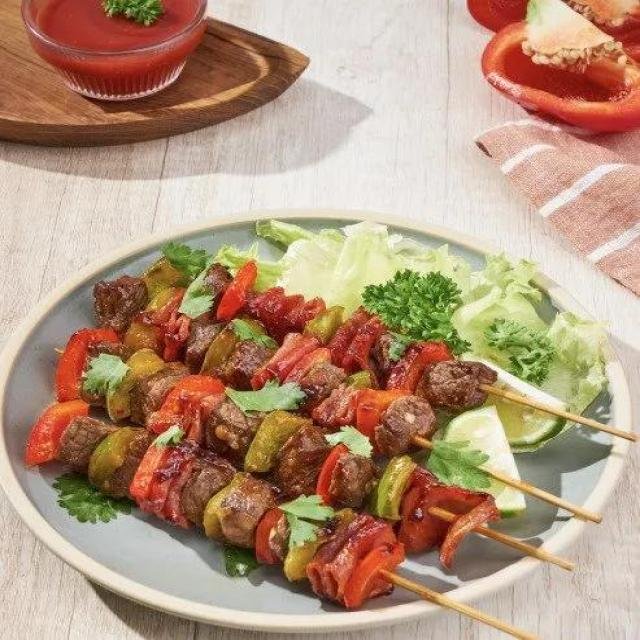Sate: (68, 242, 619, 628)
